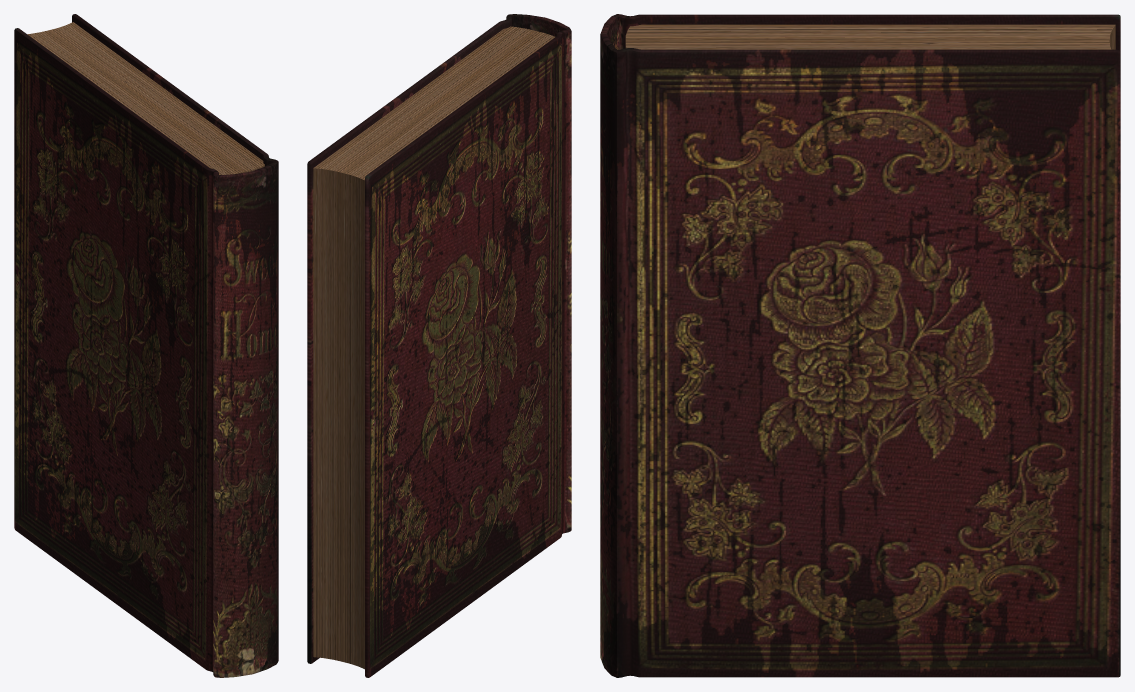
Rendered from Book_1.fbx.
3 renders of one model, left to right at view 1: azimuth 30°, elevation 25°; view 2: azimuth 150°, elevation 25°; view 3: azimuth 270°, elevation 25°, orthographic. The views are drawn at different scales.
Visible parts, largest first — view 1: Book_1; view 2: Book_1; view 3: Book_1.
Boxes of the visible parts, x1,y1,x2,y2 form: Book_1: (14, 14, 278, 677); Book_1: (307, 14, 571, 677); Book_1: (600, 14, 1120, 677).
Size of the model in its own units: 2.58 by 19.33 by 14.56.
Materials: 1 (1 with a texture image).
